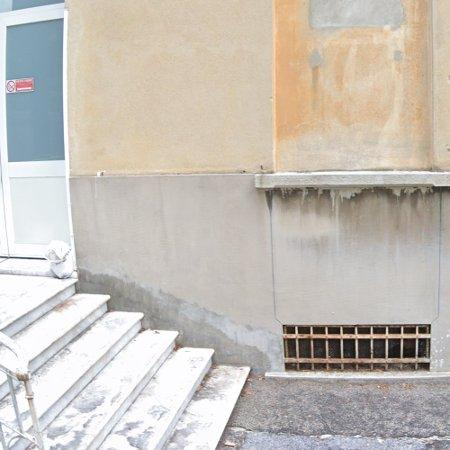stairs: (0, 260, 249, 450), (0, 345, 37, 450)
